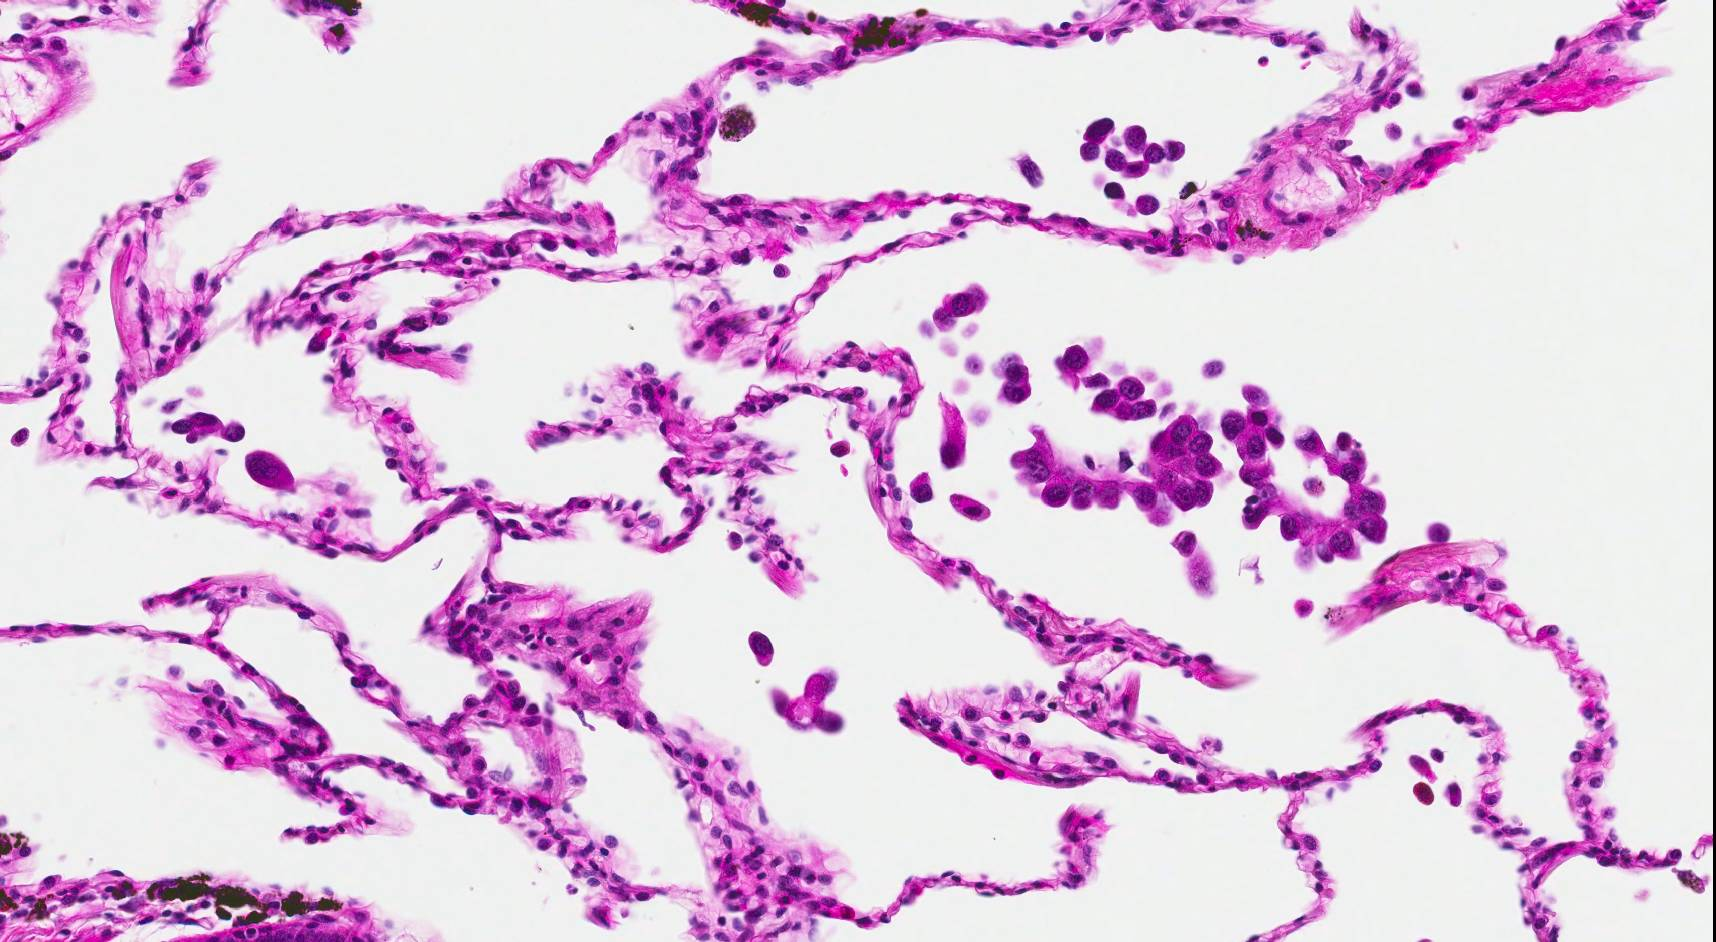stas: (1219, 383, 1395, 566), (1011, 417, 1223, 529), (1079, 118, 1190, 218), (1053, 338, 1174, 420), (774, 668, 850, 735), (922, 278, 990, 344), (163, 395, 249, 447), (991, 350, 1034, 407), (743, 629, 779, 666)
